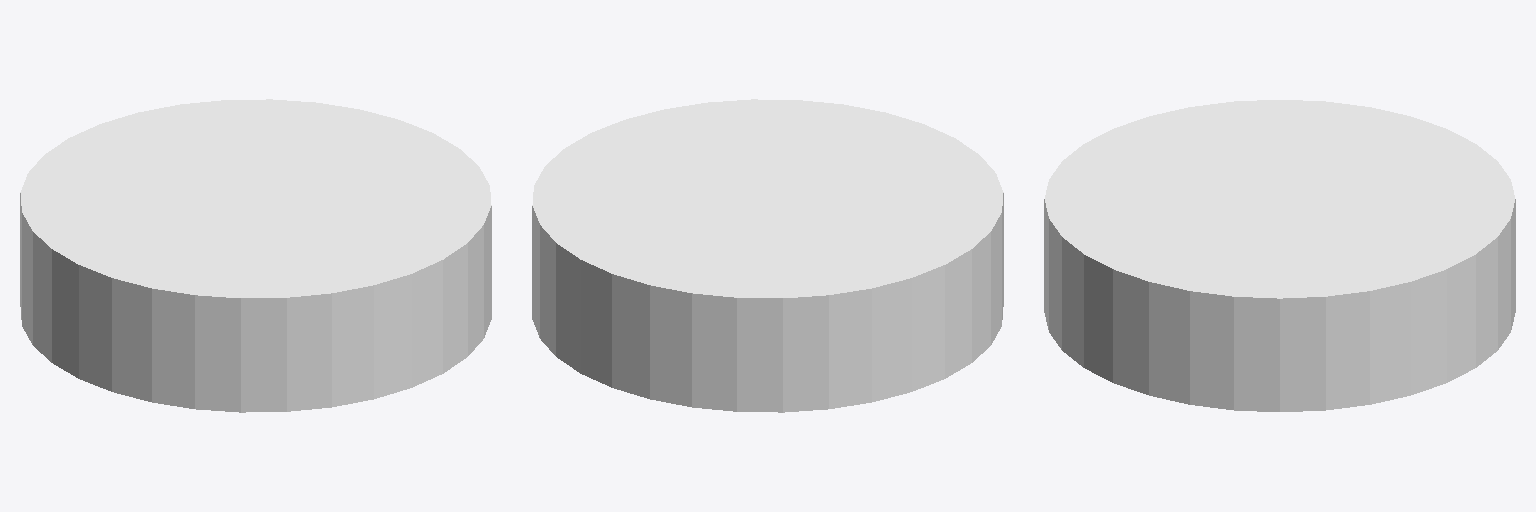
The robot description file, URDF, robot "cylinder":
<?xml version="1.0" ?>
<robot name="cylinder">
  <link name="baseLink">
    <contact>
      <lateral_friction value="1.5"/>
      <rolling_friction value="1.0"/>
      <contact_cfm value="0.0"/>
      <contact_erp value="1.0"/>
    </contact>
    <inertial>
      <origin rpy="0 0 0" xyz="0.07 0.05 0.03"/>
       <mass value="3.5"/>
       <inertia ixx="10" ixy="0" ixz="0" iyy="10" iyz="0" izz="10"/>
    </inertial>
    <visual>
      <origin rpy="0 0 0" xyz="0 0 0"/>
      <geometry>
        <mesh filename="cylinder.obj" scale=".05 .05 .1"/>
      </geometry>
      <material name="white" >
        <color rgba="1 1 1 1" />
      </material>
    </visual>
    <collision>
      <origin rpy="0 0 0" xyz="0 0 0"/>
      <geometry>
	 	<mesh filename="cylinder.obj" scale=".05 .05 .1"/>
      </geometry>
    </collision>
  </link>
</robot>

--- Facts derived from the render (not from the file) ---
3 views of the same robot in one strip: view 1: azimuth 30°, elevation 25°; view 2: azimuth 150°, elevation 25°; view 3: azimuth 270°, elevation 25° (orthographic).
Robot: cylinder — 1 links, 0 joints (none); root link baseLink; default pose: all joints at 0.
Visible links, largest first — view 1: baseLink; view 2: baseLink; view 3: baseLink.
Link boxes in pixels (<box>): baseLink: <box>20,99,491,412</box>; baseLink: <box>532,99,1003,412</box>; baseLink: <box>1044,100,1515,411</box>.
Bounding box of the posed robot: 0.15 × 0.15 × 0.04 m (x, y, z).
Meshes: 1 distinct files referenced, 1 mesh visuals loaded (1 OBJ).